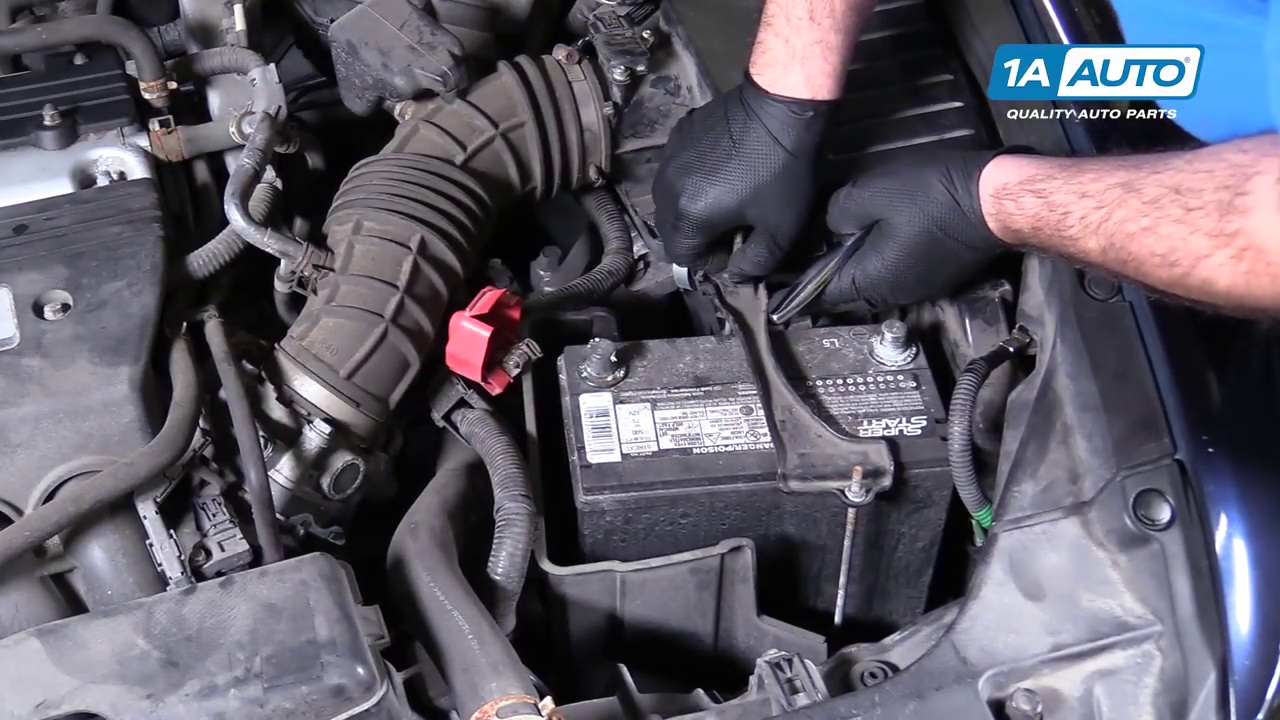battery: (560, 313, 951, 480)
neg_disconnected: (841, 303, 944, 379)
pos_disconnected: (436, 291, 638, 410)
